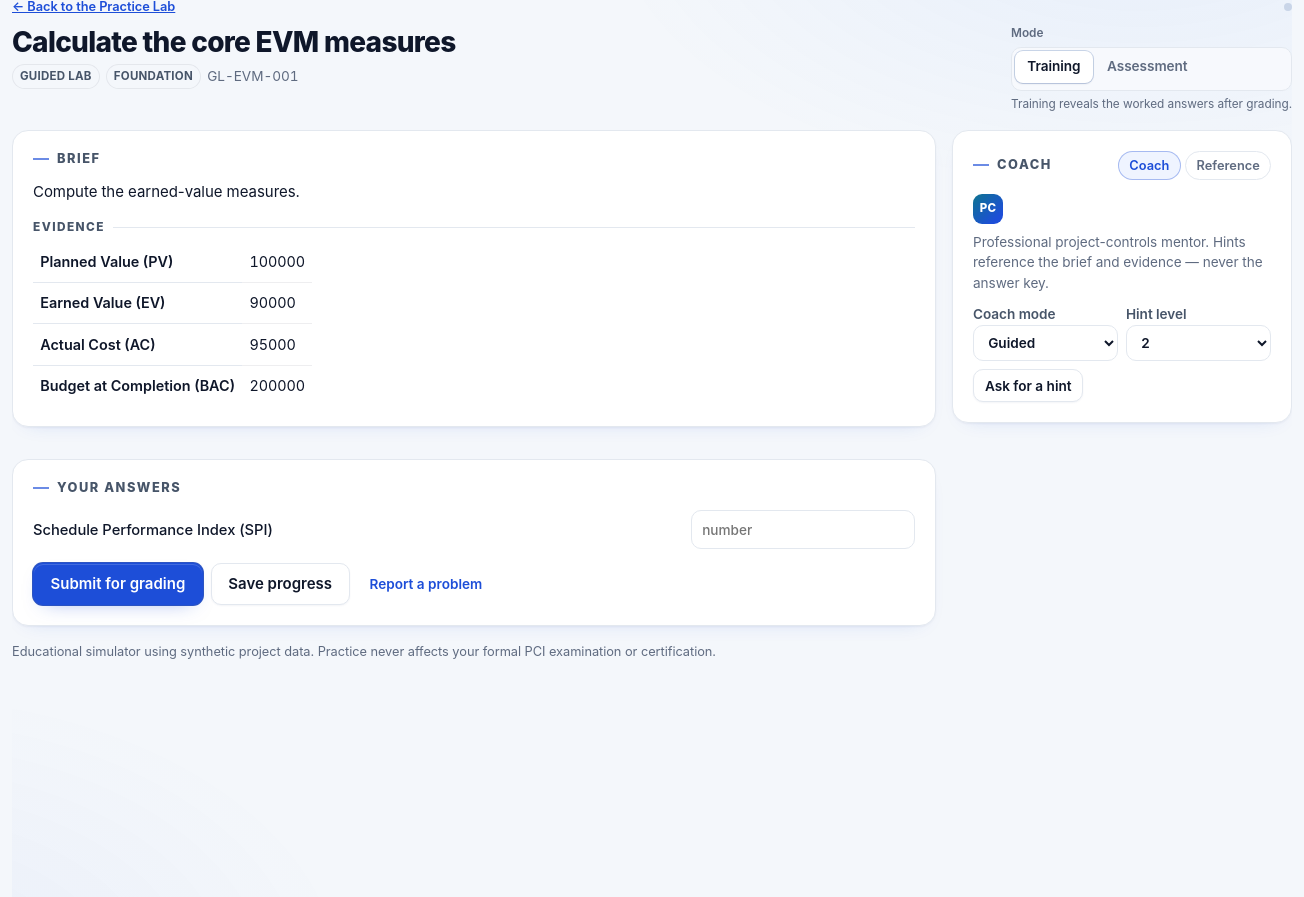
Scenario: LabRunner (Simulation Lab workspace) › starts an attempt, shows the brief + inputs, and renders the deterministic grade on submit
Expected: the text "Compute the earned-value measures." is shown, 33,182 -> 300,201
Expected: the column heading "Planned Value (PV)" is shown, 33,242 -> 242,282
Step 1. Type "0.9" into the field with placeholder "number" → (803, 530), box 691,510 -> 915,549
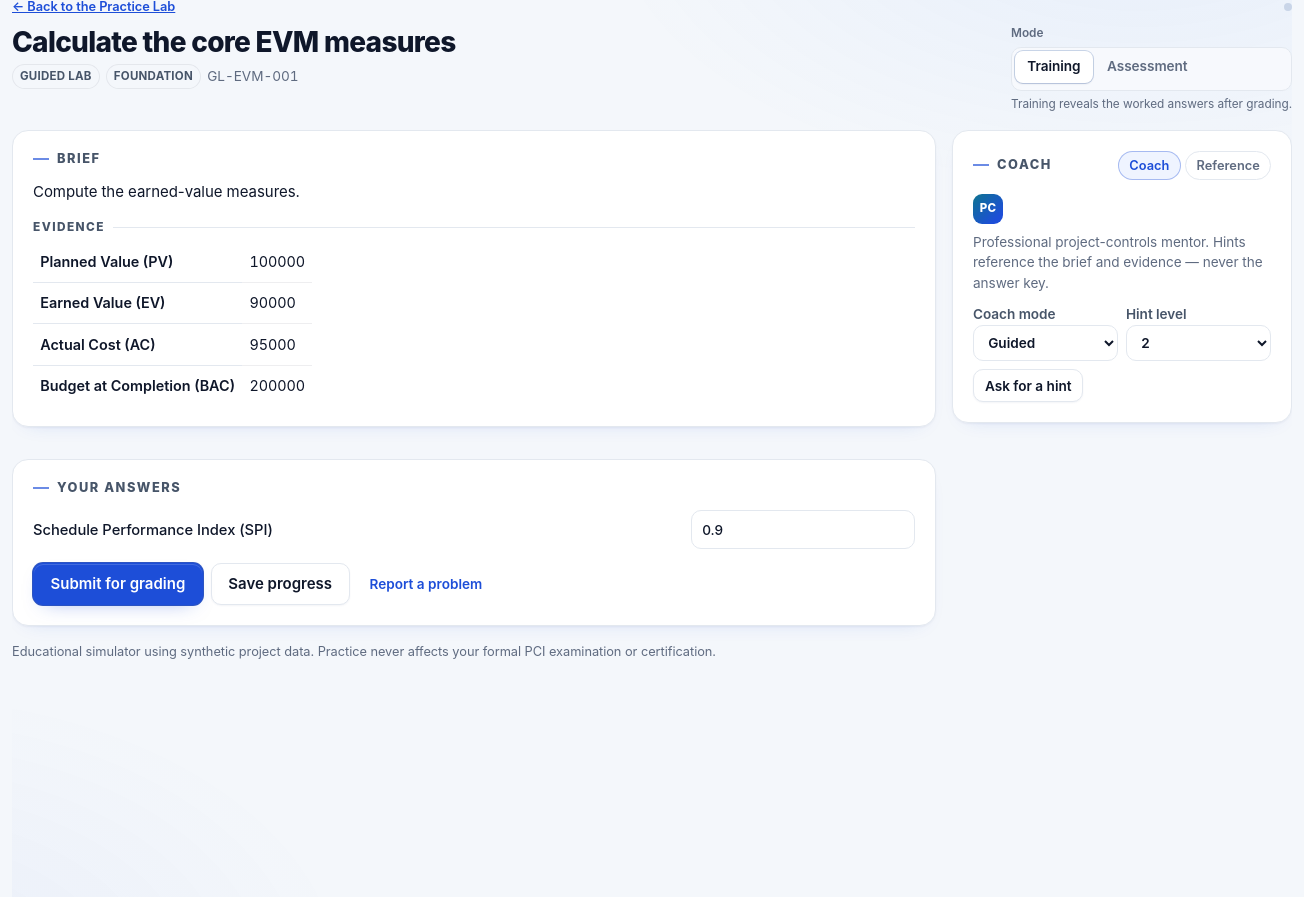
Step 2. Click the button "Submit for grading" → (118, 584), box 33,563 -> 203,605
(page scrolled)
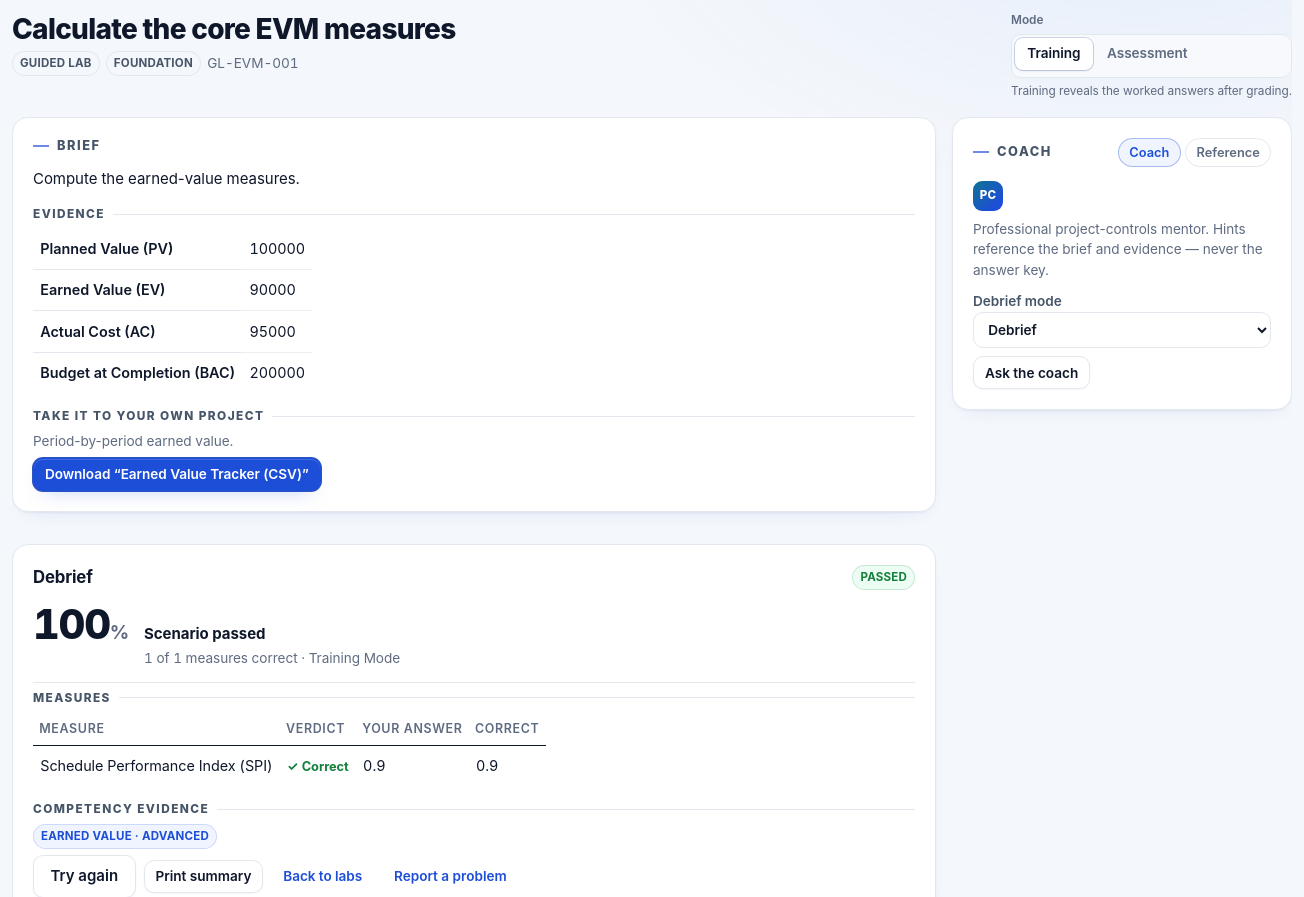
Now the text "Passed" is shown, box 852,565 -> 915,590
Now the text "Earned Value · Advanced" is shown, box 33,824 -> 217,849
